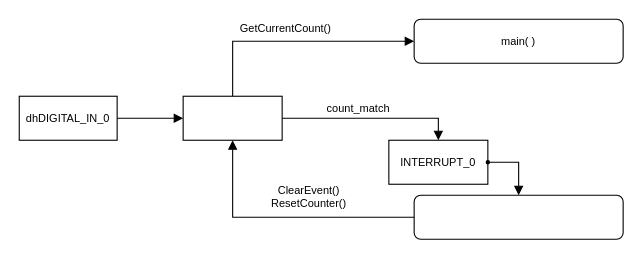
Image size: 642x259. Some labels were removed from this diagram. The shapes that lost their labels are listed below. From the top down, each one's centre as x and y in pixels, then its label:
the point at 232,117: dhCOUNTER_0
the point at 518,216: [ISR_dhCOUNTER_1_count_match]
